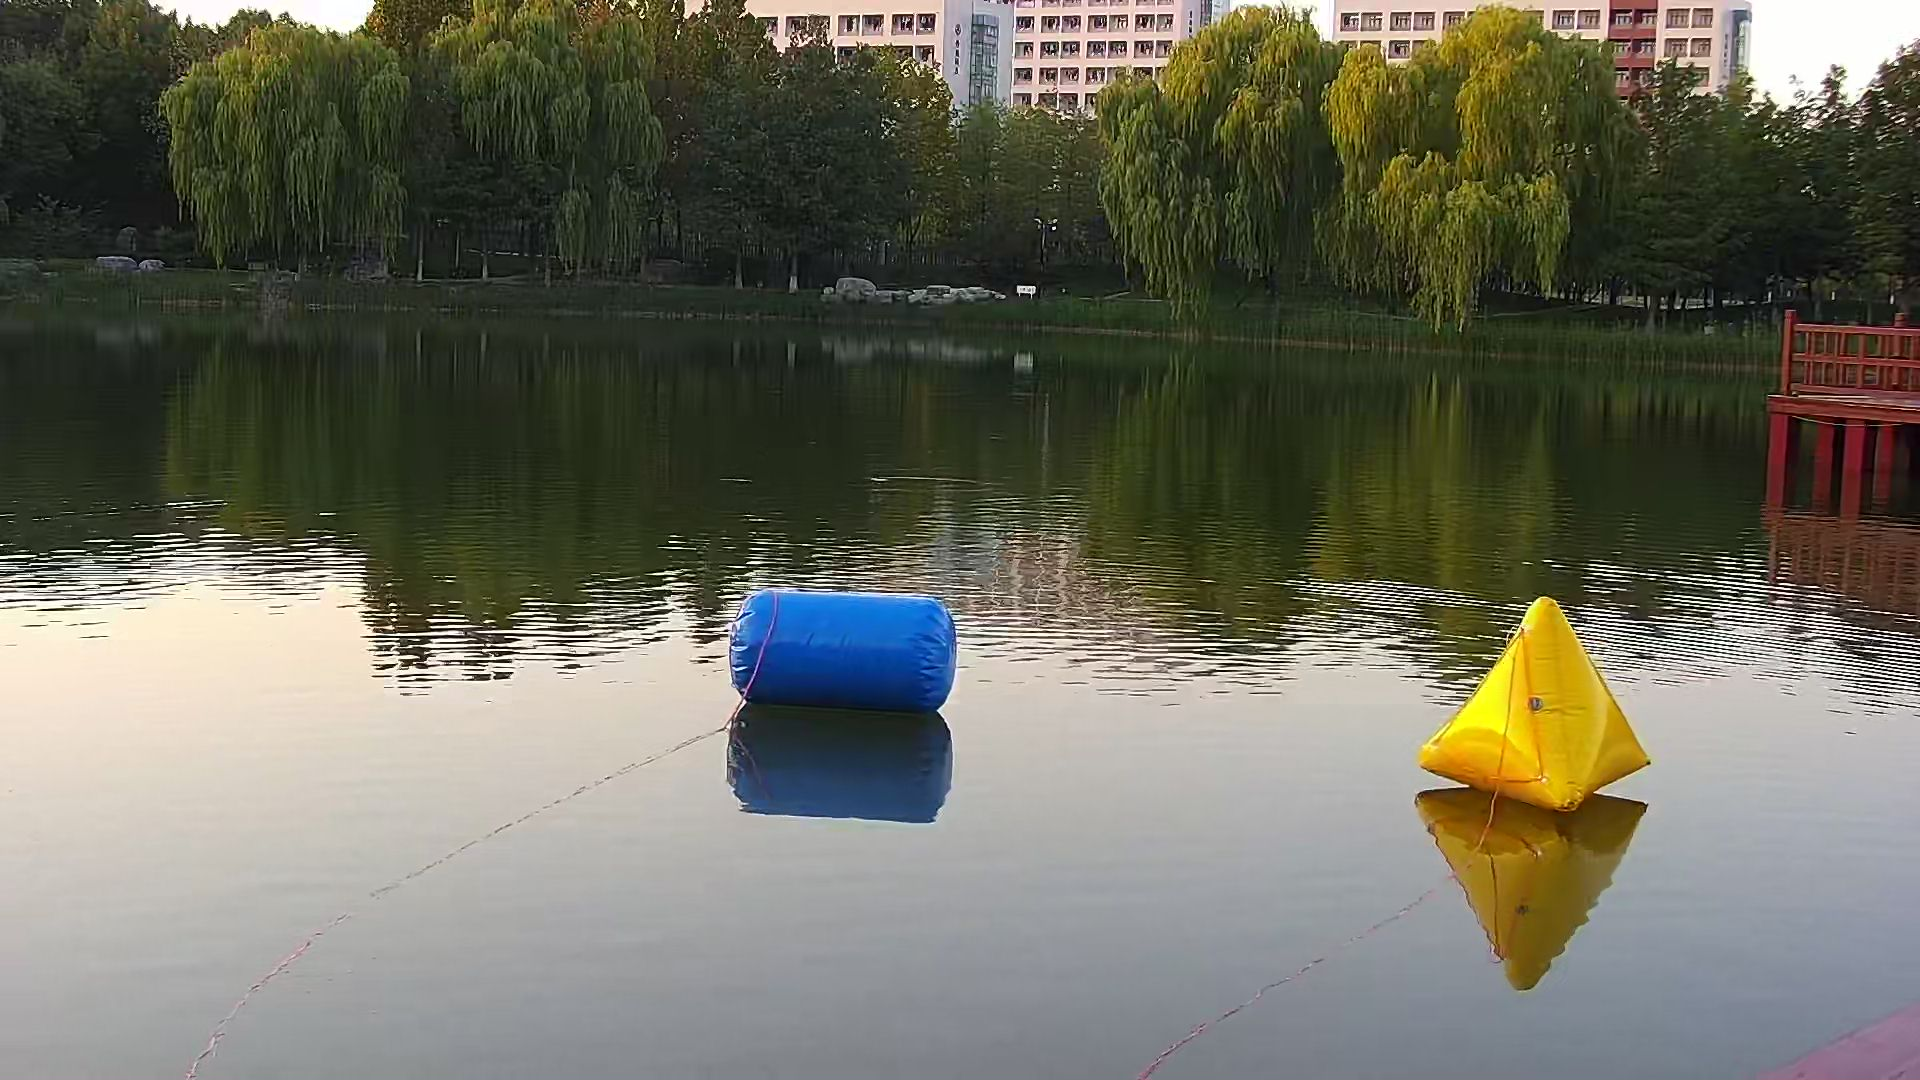rubbish: (1422, 599, 1646, 818), (727, 591, 953, 711)
